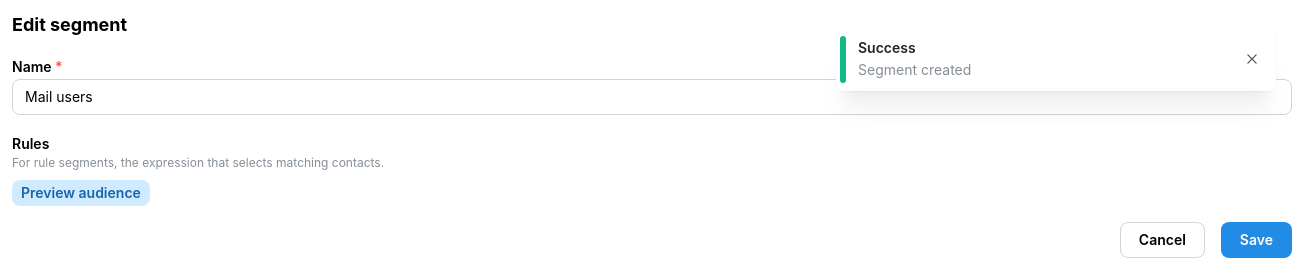
it: editing shows the stored rule untouched, saves a renamed segment and refreshes list and detail
Replace the text in the field labelled "Name *" with "Renamed" at (652, 97), box [12,79,1292,115]
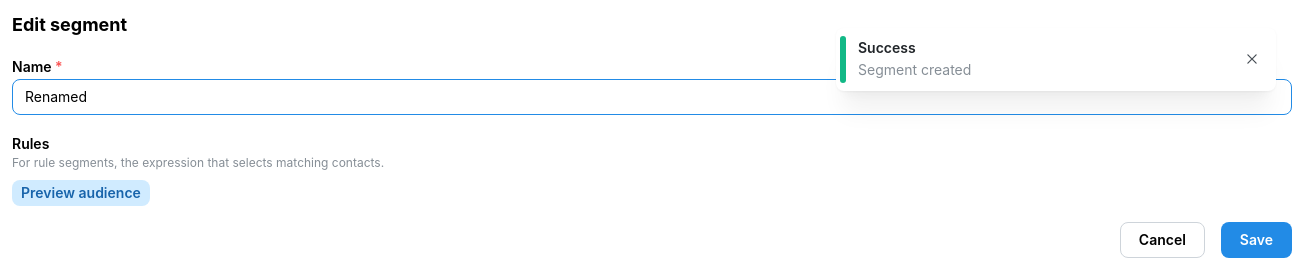
Click the button "Save" at (1256, 240), box [1221,222,1292,258]
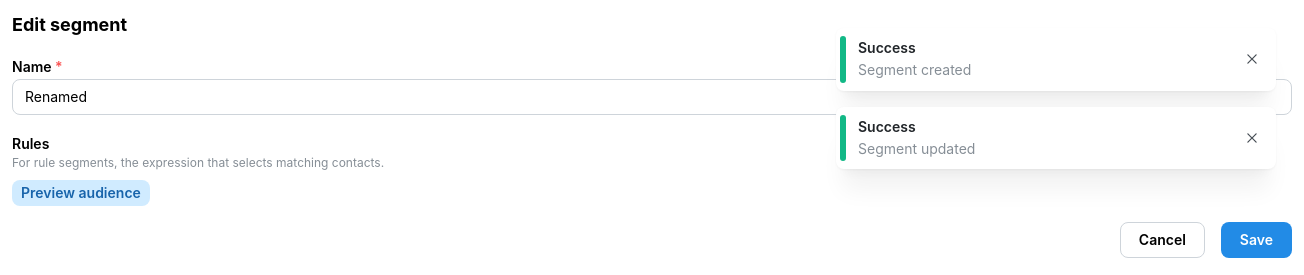
Now the text "Segment updated" is shown, box [858,140,975,157]
